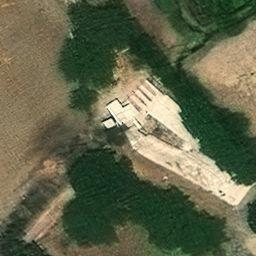manzanas: (108, 74, 254, 208)
